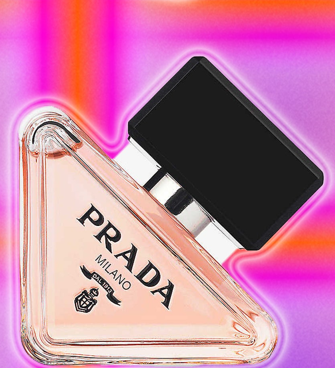prada_paradoxe: (12, 46, 324, 365)
